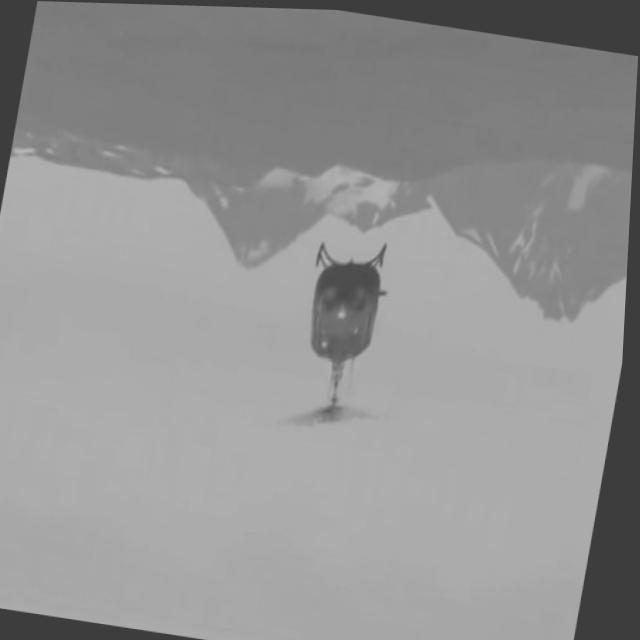helikopter: (274, 204, 415, 434)
